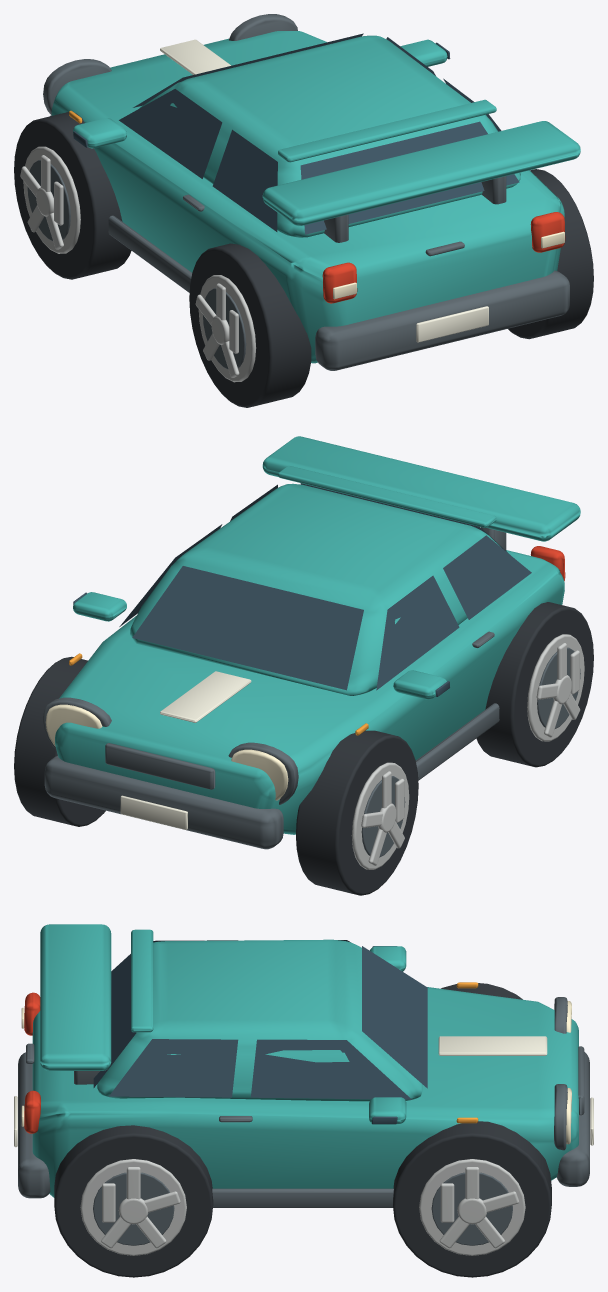
Rendered from coupe_car.glb.
3 views of the same model, one above another, from view 1: azimuth 30°, elevation 25°; view 2: azimuth 150°, elevation 25°; view 3: azimuth 270°, elevation 25° (orthographic). The views are drawn at different scales.
Parts seen in each view (by area): view 1: Body, Tyre.001, Tyre, Tyre.003, AlloyRim, AlloyRim.001, DarkInset, DarkInset.001; view 2: Body, Tyre, Tyre.001, Tyre.002, AlloyRim, AlloyRim.001, DarkInset.001, DarkInset; view 3: Body, Tyre.002, Tyre.003, AlloyRim.002, AlloyRim.003, DarkInset.003, DarkInset.002, Hub.002, Hub.003, Spoke.014, Tyre, Spoke.019 (+4 smaller).
Part boxes in pixels (x1,y1,x2,y2): Body: (43, 14, 580, 370); Tyre.001: (189, 243, 311, 407); Tyre: (14, 112, 131, 279); Tyre.003: (508, 169, 593, 339); AlloyRim: (23, 146, 80, 253); AlloyRim.001: (198, 275, 256, 382); DarkInset: (27, 160, 70, 240); DarkInset.001: (202, 288, 246, 369); Body: (43, 436, 580, 849); Tyre: (296, 730, 418, 895); Tyre.001: (476, 602, 593, 767); Tyre.002: (14, 656, 105, 826); AlloyRim: (351, 762, 409, 869); AlloyRim.001: (527, 634, 584, 741); DarkInset.001: (537, 647, 580, 728); DarkInset: (361, 776, 405, 857); Body: (14, 924, 593, 1207); Tyre.002: (393, 1121, 551, 1277); Tyre.003: (54, 1125, 213, 1277); AlloyRim.002: (419, 1159, 525, 1255); AlloyRim.003: (80, 1159, 186, 1255); DarkInset.003: (93, 1172, 174, 1245); DarkInset.002: (431, 1172, 512, 1245); Hub.002: (457, 1198, 486, 1224); Hub.003: (118, 1198, 148, 1224); Spoke.014: (440, 1183, 454, 1222); Tyre: (441, 983, 522, 999); Spoke.019: (102, 1183, 115, 1222).
Size of the model in its own units: 2.17 by 1.32 by 3.1.
